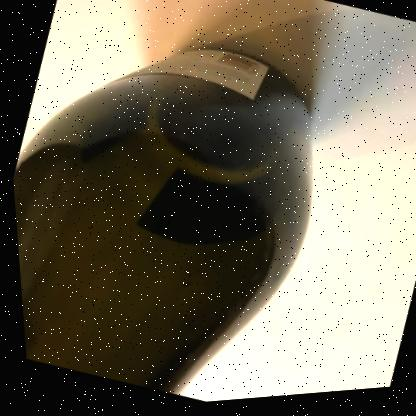Glass: (10, 52, 308, 397)
